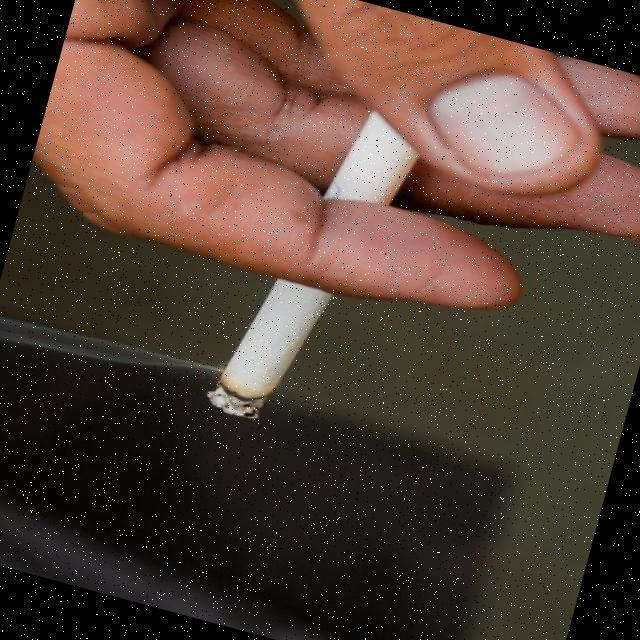cigarette: (196, 253, 346, 438)
